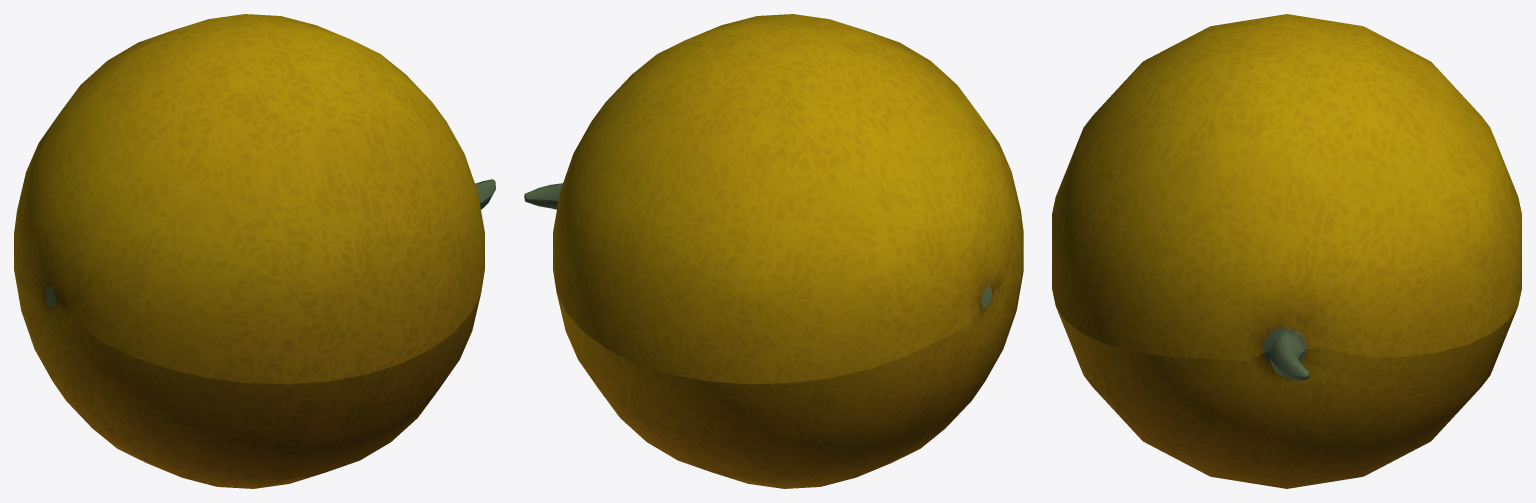
Rendered from SM_Farm_Melon_02.fbx.
3 views of the same model, side by side, from view 1: azimuth 30°, elevation 25°; view 2: azimuth 150°, elevation 25°; view 3: azimuth 270°, elevation 25° (orthographic).
Visible parts, largest first — view 1: SM_Farm_Melon_02_LOD0; view 2: SM_Farm_Melon_02_LOD0; view 3: SM_Farm_Melon_02_LOD0.
Part boxes in pixels (x1,y1,x2,y2): SM_Farm_Melon_02_LOD0: (14, 14, 495, 488); SM_Farm_Melon_02_LOD0: (524, 14, 1023, 488); SM_Farm_Melon_02_LOD0: (1052, 14, 1521, 488).
Bounding box in the file's own units: 32.09 × 29.12 × 28.67.
